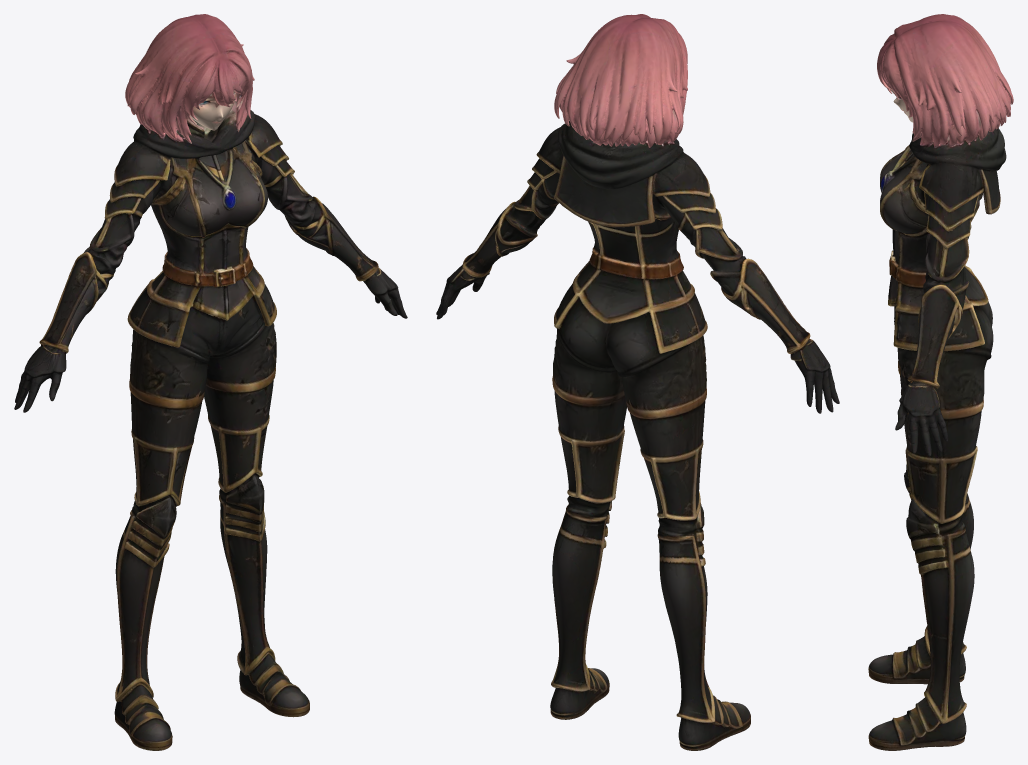
File: nightwarden.glb
3 views of the same model, side by side, from view 1: azimuth 30°, elevation 25°; view 2: azimuth 150°, elevation 25°; view 3: azimuth 270°, elevation 25° (orthographic). The views are drawn at different scales.
Size of the model in its own units: 1.12 by 1.9 by 0.3617.
1 material, 1 textured.
